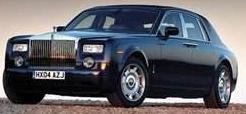front_view: (9, 38, 113, 95)
headlight: (82, 42, 104, 60)
side_glass: (149, 10, 212, 44)
